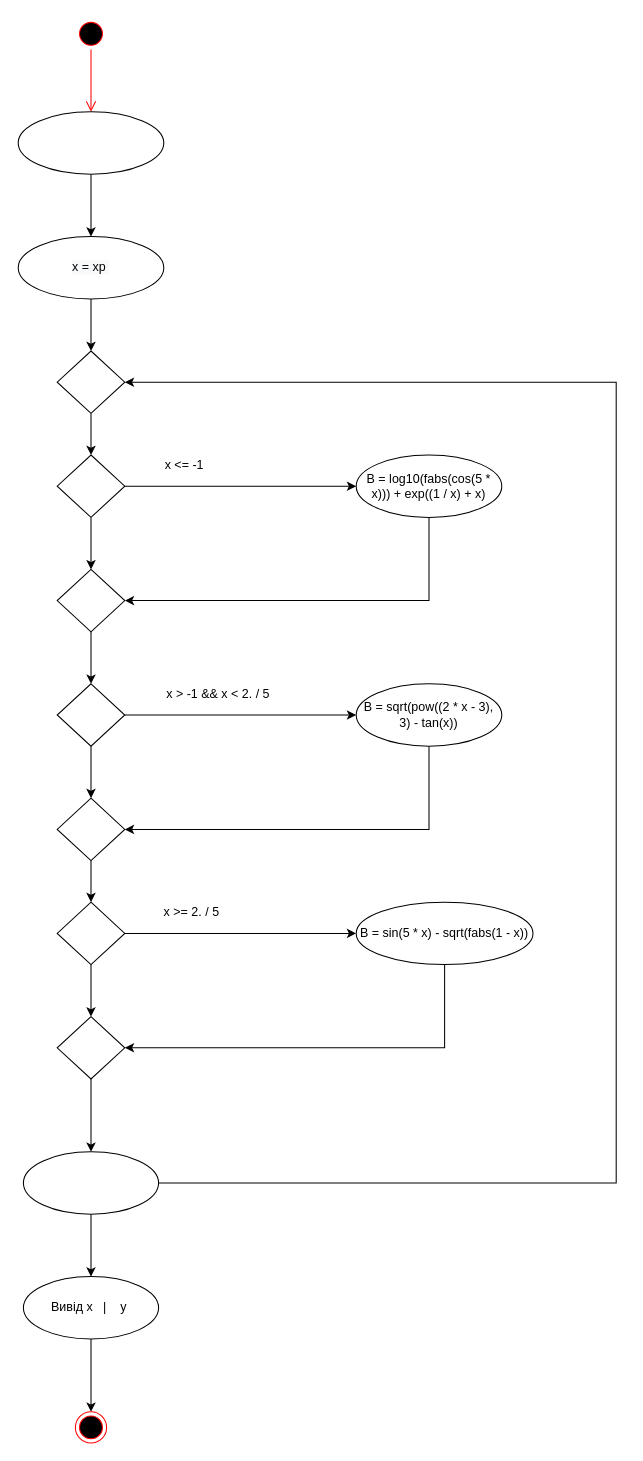
The diagram is 643 pixels wide and 1461 high, and some of its shapes have lost their labels. The box of each missing label's shape, as (x1, y1, x2, y2) in pixels:
y = A + B: (22, 1151, 159, 1214)
Ввід x, y, xp, xk, dx: (17, 111, 164, 174)
